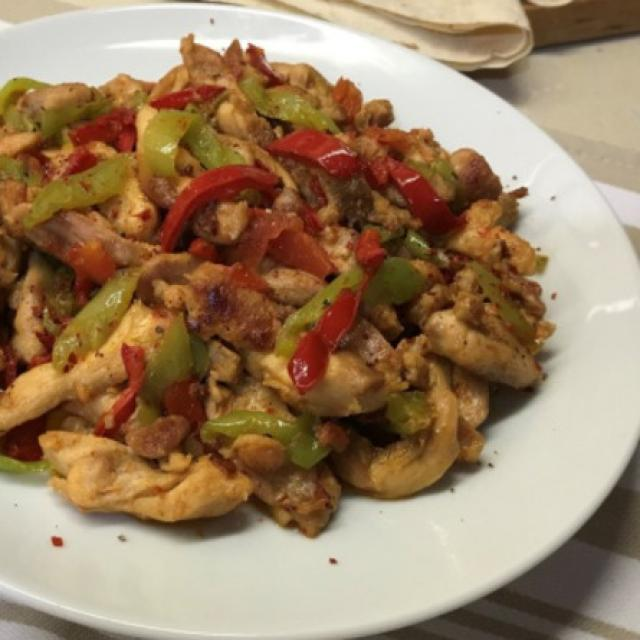ana_yemek: (0, 0, 564, 570)
